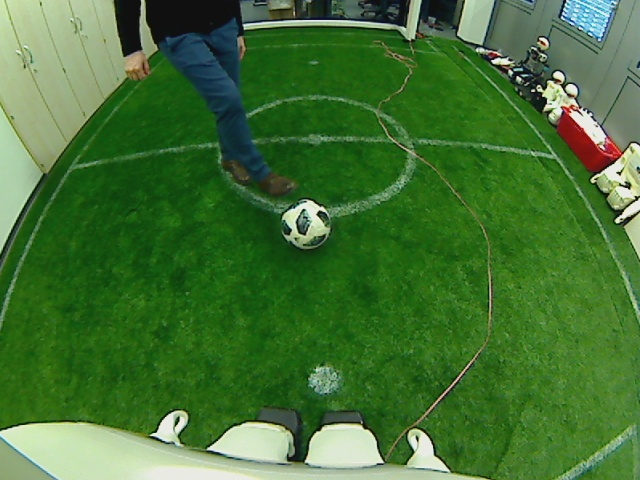ball: (280, 195, 332, 249)
